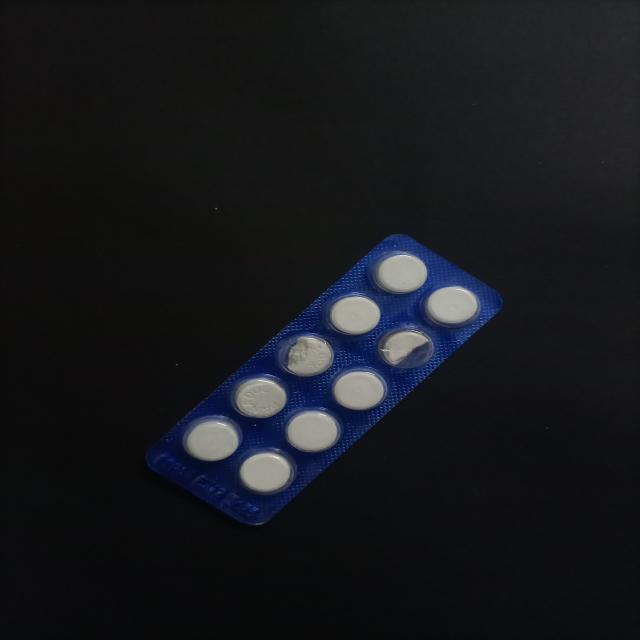defect: (272, 330, 338, 380), (375, 326, 436, 371)
